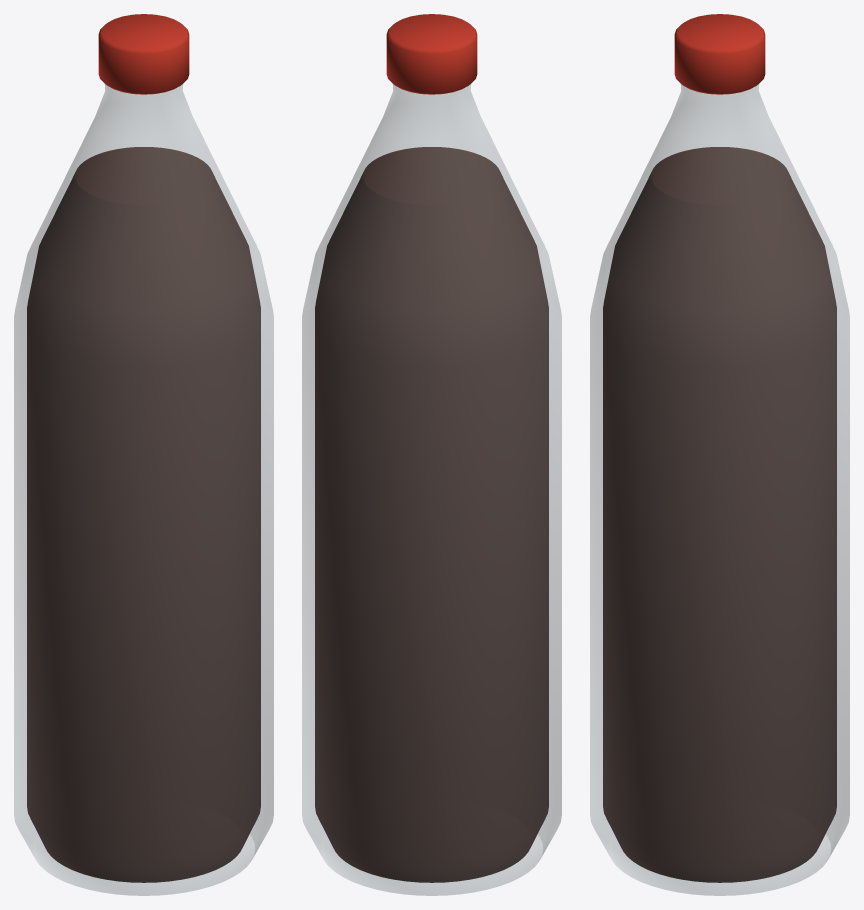
Rendered from pet-escuro.glb.
The picture shows the model from 3 angles, left to right: view 1: azimuth 30°, elevation 25°; view 2: azimuth 150°, elevation 25°; view 3: azimuth 270°, elevation 25°; orthographic projection.
Parts seen in each view (by area): view 1: pet-escuro; view 2: pet-escuro; view 3: pet-escuro.
Boxes of the visible parts, box(x1,y1,x2,y2) form: pet-escuro: box(14, 14, 273, 895); pet-escuro: box(302, 14, 561, 895); pet-escuro: box(590, 14, 849, 895).
Size of the model in its own units: 0.084 by 0.2914 by 0.084.
